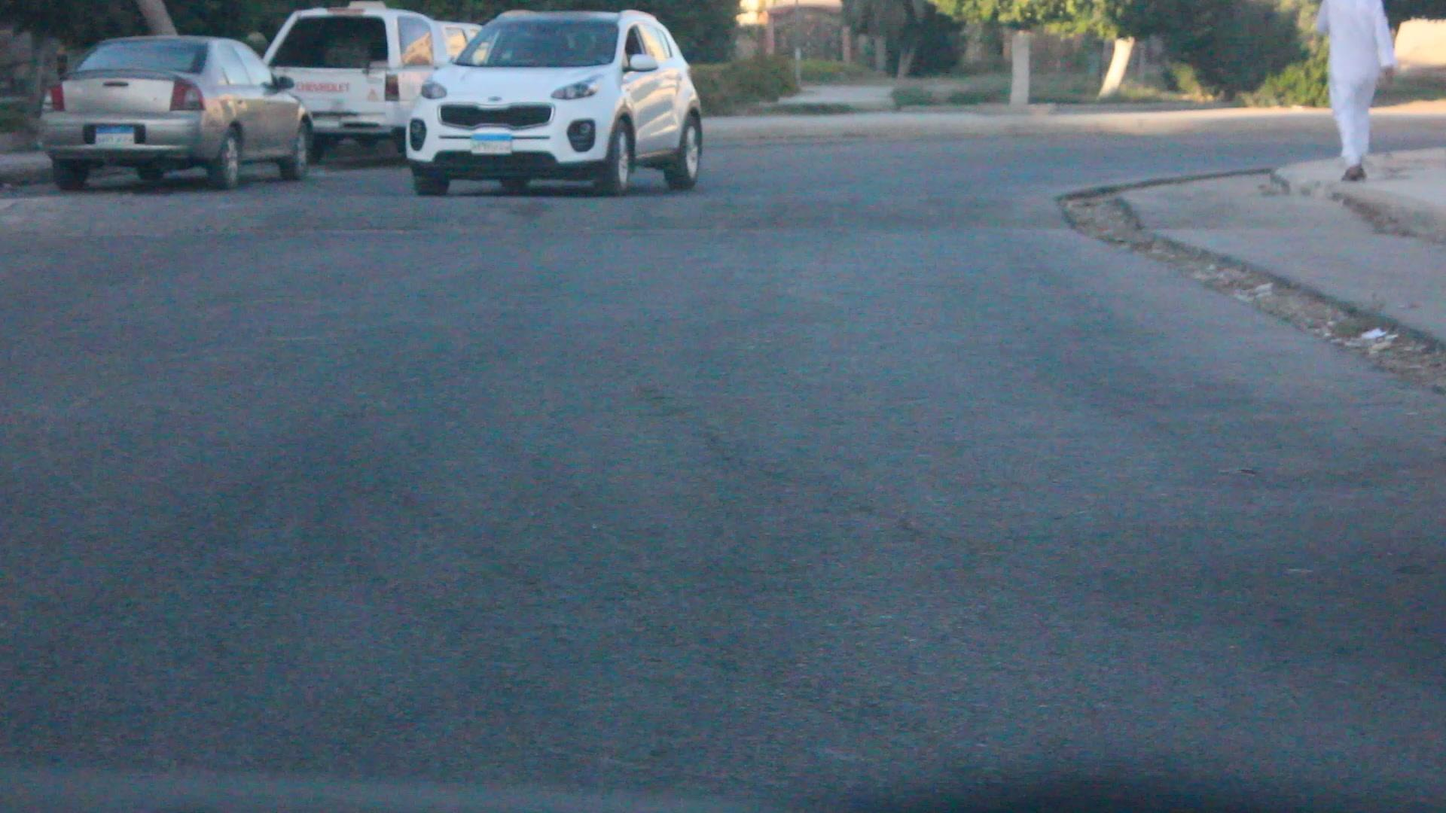Bump: (4, 184, 1084, 245)
